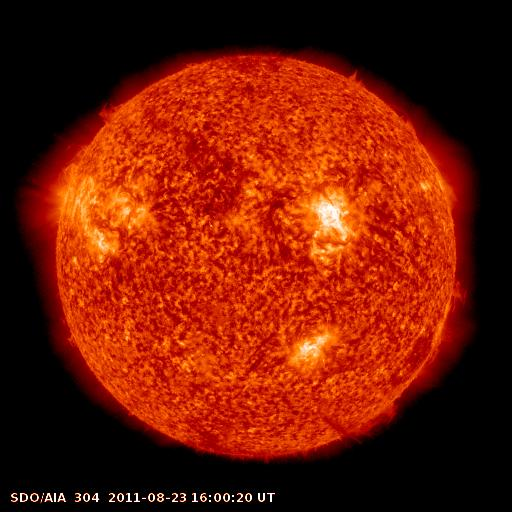prominence: (319, 399, 406, 444), (93, 94, 135, 133), (441, 269, 474, 311), (342, 62, 371, 90)
